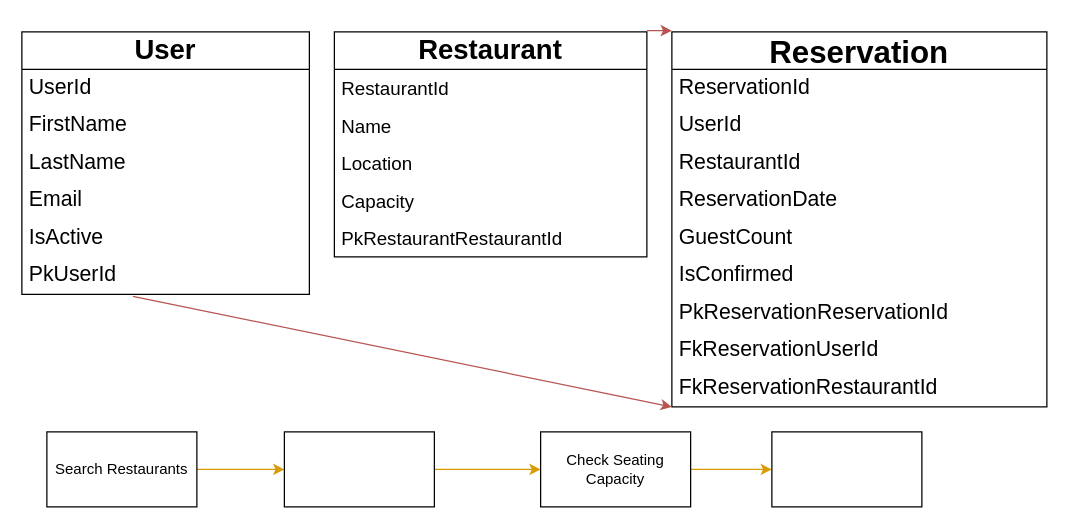
Some shapes in this 1069 by 529 pixel diagram are drawn without their labels. The centre of each missing label's shape, as x and y in pixels:
"Reservation Created" belongs at [846,469].
"Select Date & Guests" belongs at [358,469].
